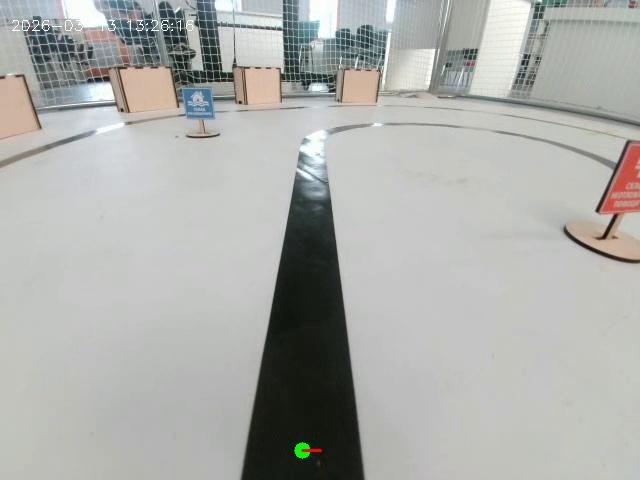flood: (181, 73, 220, 153)
medical: (550, 118, 640, 296)
